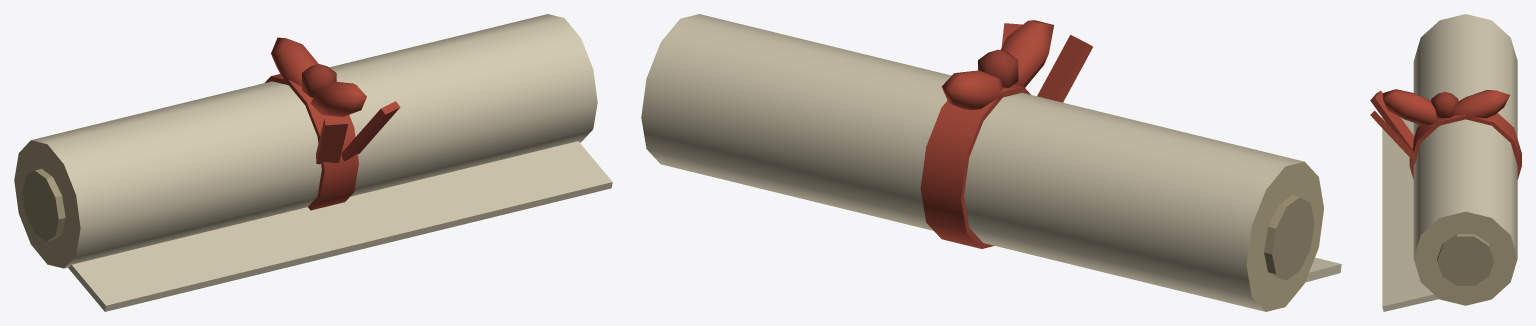
Rendered from blueprint_scroll.glb.
3 renders of one model, left to right at view 1: azimuth 30°, elevation 25°; view 2: azimuth 150°, elevation 25°; view 3: azimuth 270°, elevation 25°, orthographic. The views are drawn at different scales.
Parts seen in each view (by area): view 1: body, body_nl; view 2: body, body_nl; view 3: body, body_nl.
Boxes of the visible parts, x1,y1,x2,y2 form: body: (14,14,612,311); body_nl: (22,37,400,241); body: (641,14,1341,311); body_nl: (941,20,1314,280); body: (1382,14,1521,311); body_nl: (1370,89,1509,285).
Bounding box in the file's own units: 0.924 × 0.2649 × 0.292.
